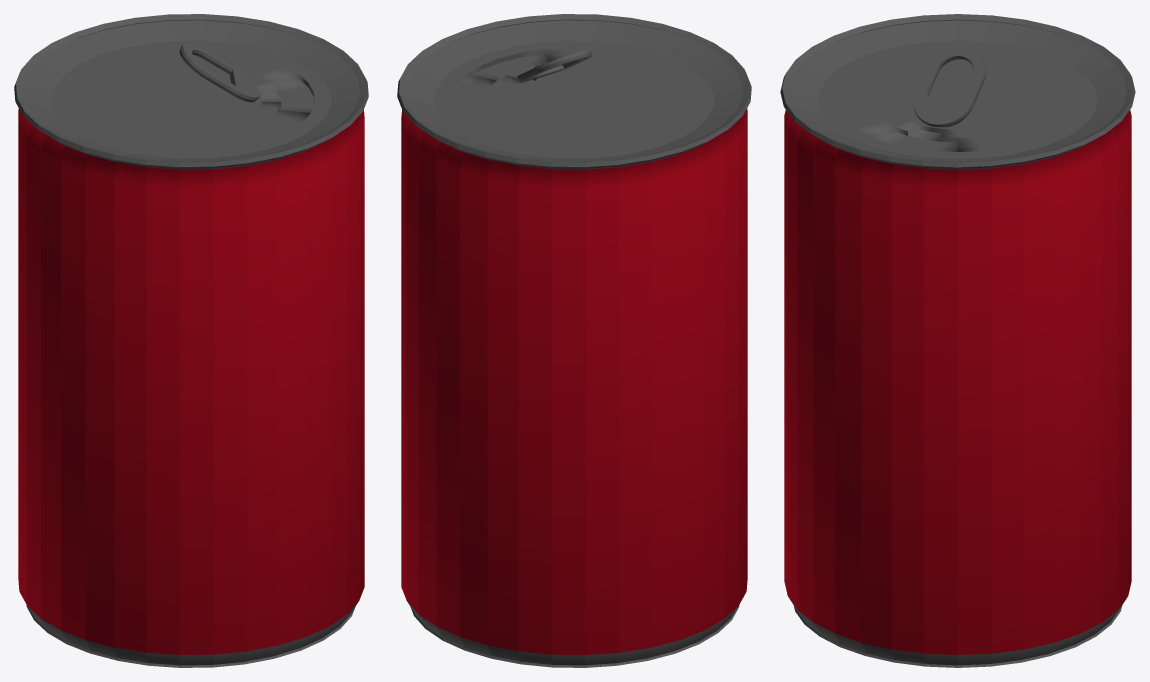
File: Lata.fbx
3 views of the same model, side by side, from view 1: azimuth 30°, elevation 25°; view 2: azimuth 150°, elevation 25°; view 3: azimuth 270°, elevation 25° (orthographic).
Parts seen in each view (by area): view 1: Cilindro; view 2: Cilindro; view 3: Cilindro.
Part boxes in pixels (left/top/right/bottom): Cilindro: left=14, top=14, right=368, bottom=667; Cilindro: left=397, top=14, right=751, bottom=667; Cilindro: left=780, top=14, right=1135, bottom=667.
Bounding box in the file's own units: 166 × 283 × 166.
